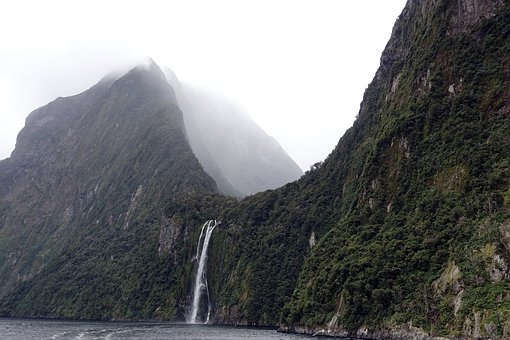mountain: (7, 34, 504, 332)
